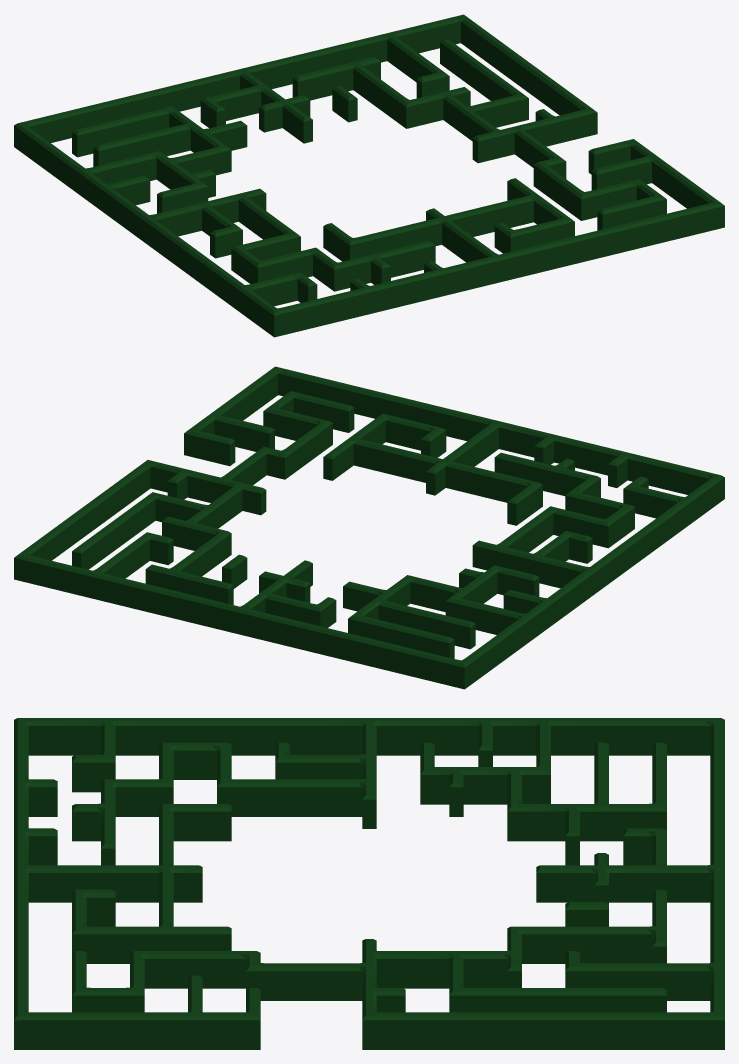
File: Court Hedge 2.FBX
3 renders of one model, top to bottom at view 1: azimuth 30°, elevation 25°; view 2: azimuth 150°, elevation 25°; view 3: azimuth 270°, elevation 25°, orthographic. The views are drawn at different scales.
Parts seen in each view (by area): view 1: Hedge Mazes; view 2: Hedge Mazes; view 3: Hedge Mazes.
Part boxes in pixels (x1,y1,x2,y2): Hedge Mazes: (14,14,724,337); Hedge Mazes: (14,366,724,689); Hedge Mazes: (14,718,724,1049).
Size of the model in its own units: 24.54 by 1.25 by 24.54.
